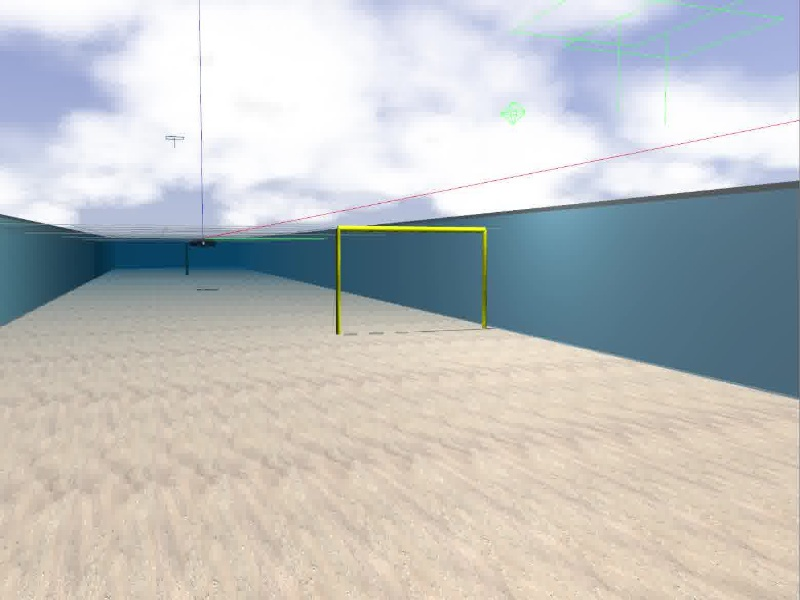gate: (334, 224, 490, 338)
